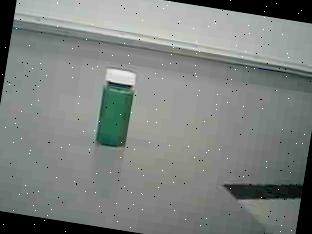Bottle C: (84, 58, 152, 156)
